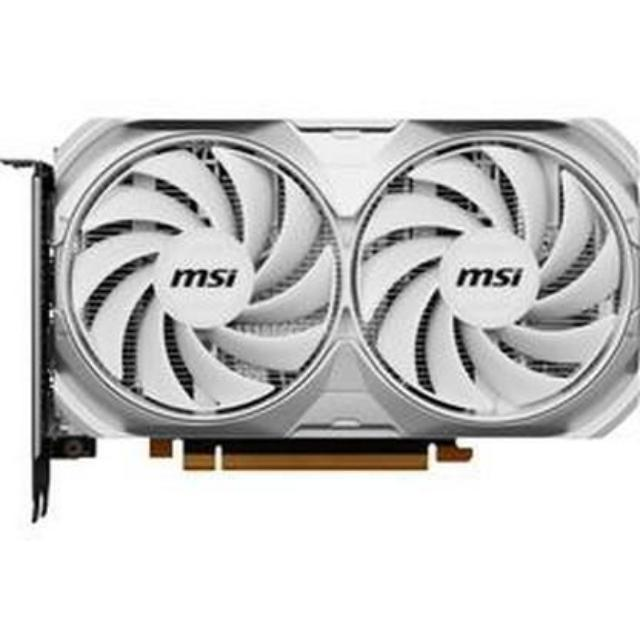GPU: (24, 100, 626, 494)
